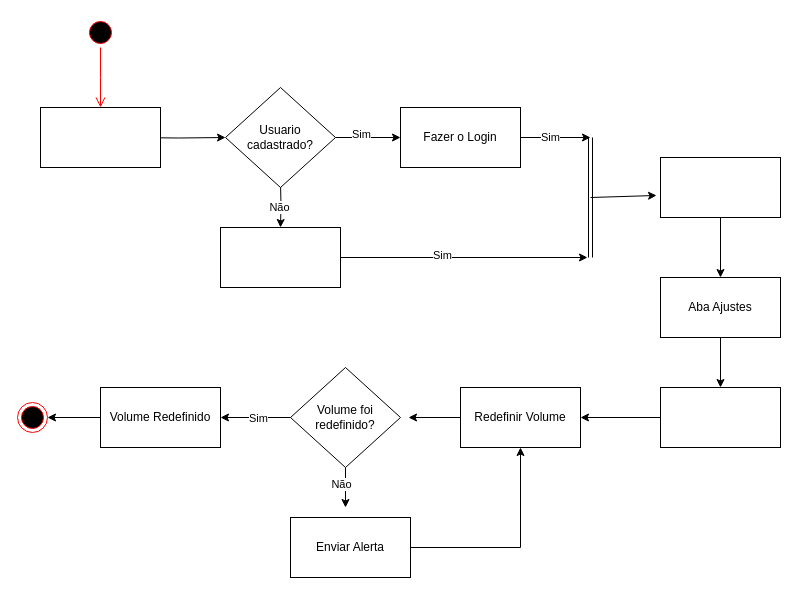
Image size: 798x595. Some labels were removed from this diagram. Here are the shapes that lost their labels. From the top down, the box of each, then its label:
(40, 106, 160, 168): Usuário acessou o sistema
(660, 156, 780, 218): Tela Inicial
(220, 226, 340, 288): Realizar o Cadastro
(660, 386, 780, 448): Entrada e Audio
